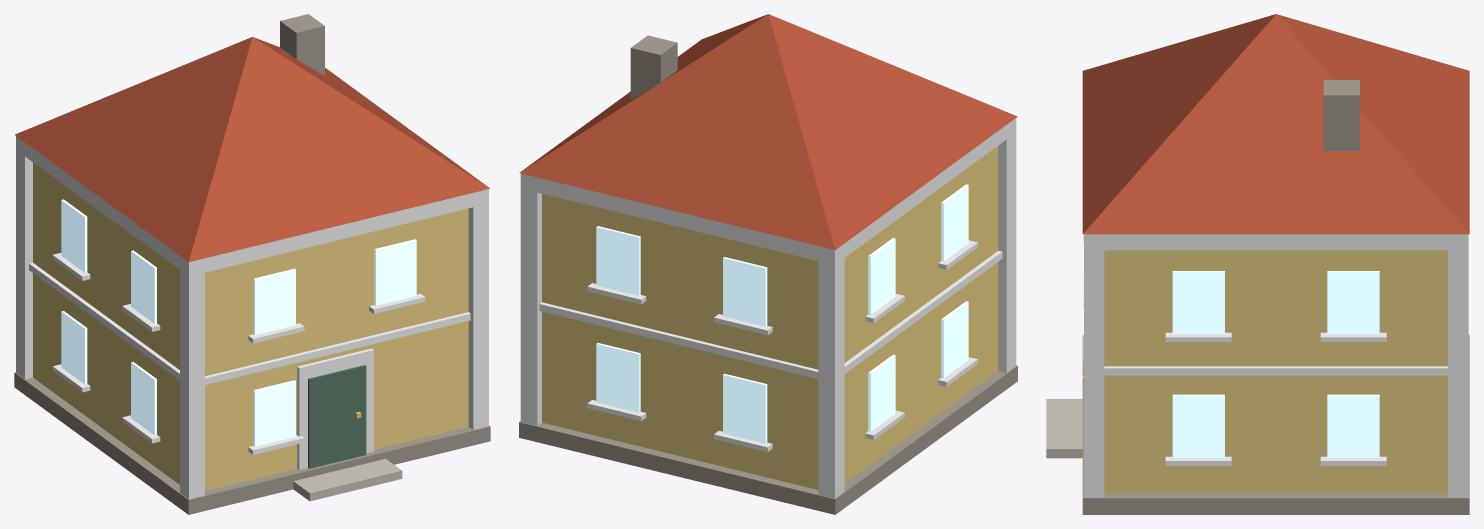
The model's file is casa-girasol.glb.
3 views of the same model, side by side, from view 1: azimuth 30°, elevation 25°; view 2: azimuth 150°, elevation 25°; view 3: azimuth 270°, elevation 25° (orthographic). The views are drawn at different scales.
Visible parts, largest first — view 1: casa-girasol_1, casa-girasol_7, casa-girasol_2, casa-girasol_3, casa-girasol_0, casa-girasol_4, casa-girasol_6; view 2: casa-girasol_1, casa-girasol_7, casa-girasol_2, casa-girasol_3, casa-girasol_0; view 3: casa-girasol_7, casa-girasol_1, casa-girasol_2, casa-girasol_3, casa-girasol_0, casa-girasol_6.
Boxes of the visible parts, x1=… form: casa-girasol_1: x1=33, y1=162, x2=468, y2=490; casa-girasol_7: x1=15, y1=37, x2=489, y2=261; casa-girasol_2: x1=16, y1=136, x2=488, y2=499; casa-girasol_3: x1=61, y1=199, x2=416, y2=446; casa-girasol_0: x1=14, y1=14, x2=490, y2=514; casa-girasol_4: x1=308, y1=365, x2=366, y2=468; casa-girasol_6: x1=293, y1=458, x2=402, y2=501; casa-girasol_1: x1=542, y1=146, x2=998, y2=489; casa-girasol_7: x1=519, y1=14, x2=1017, y2=249; casa-girasol_2: x1=520, y1=118, x2=1016, y2=498; casa-girasol_3: x1=596, y1=184, x2=968, y2=443; casa-girasol_0: x1=519, y1=35, x2=1017, y2=514; casa-girasol_7: x1=1082, y1=14, x2=1469, y2=234; casa-girasol_1: x1=1104, y1=250, x2=1447, y2=493; casa-girasol_2: x1=1083, y1=234, x2=1468, y2=497; casa-girasol_3: x1=1172, y1=271, x2=1379, y2=457; casa-girasol_0: x1=1082, y1=80, x2=1469, y2=514; casa-girasol_6: x1=1046, y1=399, x2=1082, y2=458.
Bounding box in the file's own units: 8.5 × 10.16 × 9.3.
